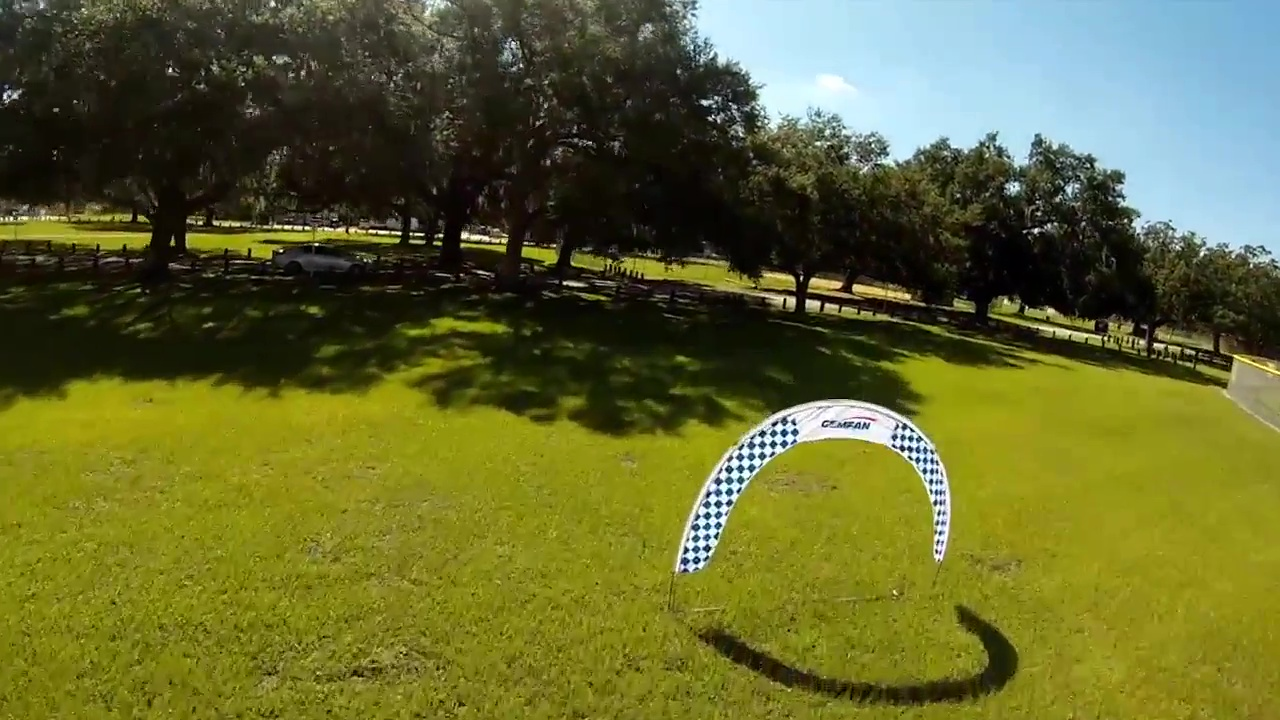gate: (672, 399, 953, 574)
